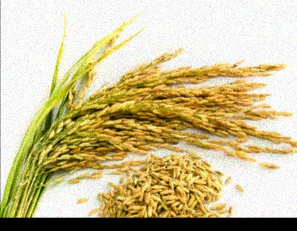rice: (27, 46, 292, 187)
